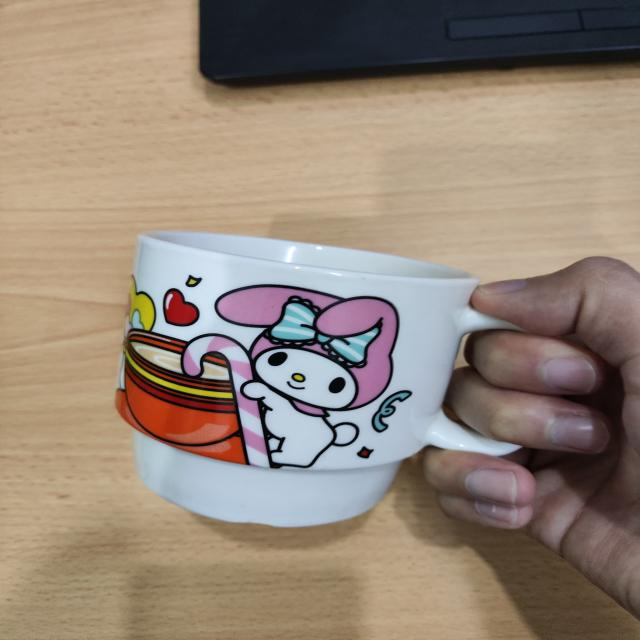cup: (96, 212, 521, 551)
